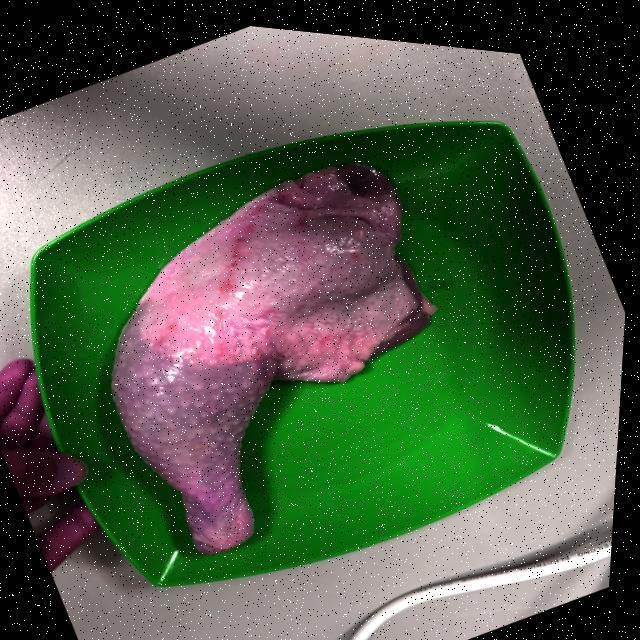quater: (117, 158, 417, 550)
